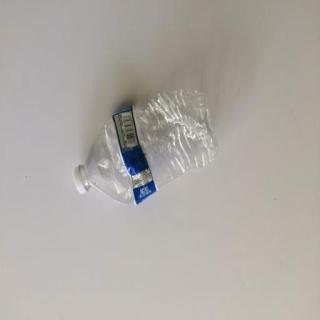Plastic-bottle: (73, 89, 222, 209)
